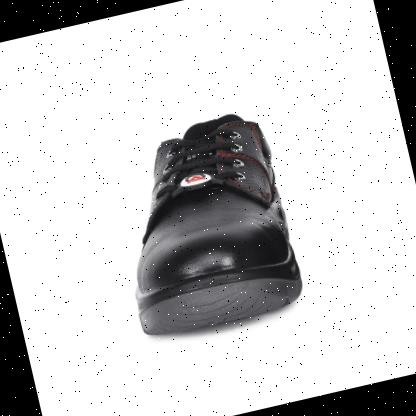bota: (95, 102, 312, 346)
